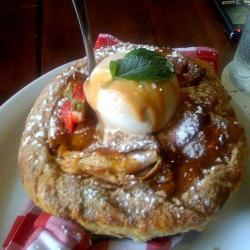apple_pie: (23, 36, 245, 238)
icecream: (80, 42, 187, 140)
